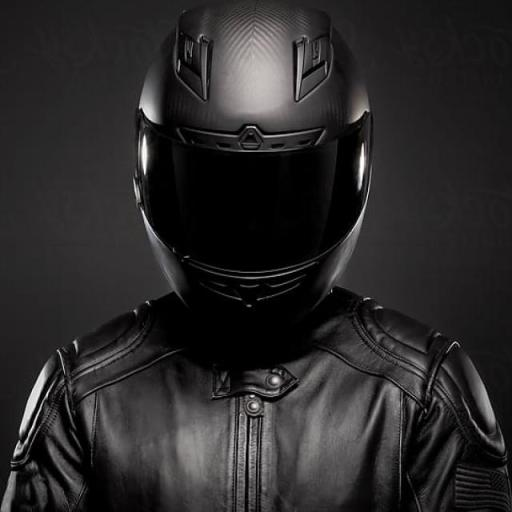Helmet: (135, 0, 371, 329)
